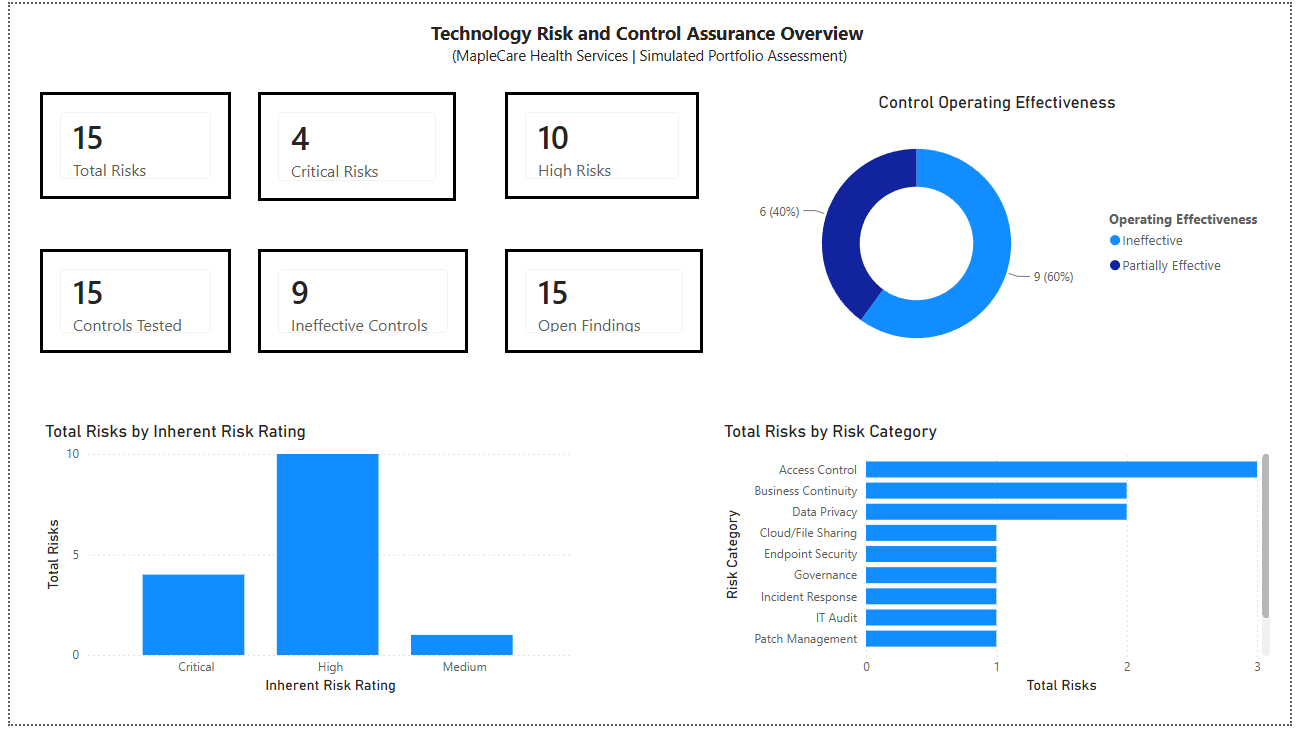

Layout of this report page (visuals, bound fields, positions):
{"tool":"powerbi","page":{"name":"Executive Risk Overview","canvas":[1280,720],"ordinal":0},"visuals":[{"type":"cardVisual","fields":{"Data":["Risks.Critical Risks"]},"box":[248,87.5,198.4,109.9],"z":0},{"type":"cardVisual","fields":{"Data":["Risks.Total Risks"]},"box":[30.2,87.5,190.6,107],"z":1000},{"type":"cardVisual","fields":{"Data":["Risks.High Risks"]},"box":[495.1,87.5,193.6,107],"z":2000},{"type":"cardVisual","fields":{"Data":["Controls.Controls Tested"]},"box":[30.2,245.1,190.6,104.1],"z":3000},{"type":"cardVisual","fields":{"Data":["Controls.Ineffective Controls"]},"box":[248,245.1,210.1,104.1],"z":4000},{"type":"cardVisual","fields":{"Data":["Findings.Open Findings"]},"box":[495.1,245.1,197.4,104.1],"z":5000},{"type":"clusteredColumnChart","fields":{"Category":["Risks.Inherent Risk Rating"],"Y":["Risks.Total Risks"]},"box":[30.2,417.3,536.9,277.2],"z":6000},{"type":"clusteredBarChart","fields":{"Category":["Risks.Risk Category"],"Y":["Risks.Total Risks"]},"box":[709.1,417.3,556.4,277.2],"z":7000},{"type":"textbox","box":[236.4,10.7,806.3,76.8],"z":9000},{"type":"donutChart","title":"Control Operating Effectiveness","fields":{"Category":["Controls.Operating Effectiveness"],"Y":["Controls.Controls Tested"]},"box":[709.1,87.5,556.4,284],"z":10000}]}

Visuals, with their boxes in screenshot pixels (x1, y1, x2, y2), scaled from the page's 1280x720 canvas onto the 1296x729 screenshot:
cardVisual - Risks.Critical Risks: x1=251 y1=89 x2=452 y2=200
cardVisual - Risks.Total Risks: x1=31 y1=89 x2=224 y2=197
cardVisual - Risks.High Risks: x1=501 y1=89 x2=697 y2=197
cardVisual - Controls.Controls Tested: x1=31 y1=248 x2=224 y2=354
cardVisual - Controls.Ineffective Controls: x1=251 y1=248 x2=464 y2=354
cardVisual - Findings.Open Findings: x1=501 y1=248 x2=701 y2=354
clusteredColumnChart - Risks.Inherent Risk Rating x Risks.Total Risks: x1=31 y1=423 x2=574 y2=703
clusteredBarChart - Risks.Risk Category x Risks.Total Risks: x1=718 y1=423 x2=1281 y2=703
textbox: x1=239 y1=11 x2=1056 y2=89
"Control Operating Effectiveness" donutChart: x1=718 y1=89 x2=1281 y2=376
